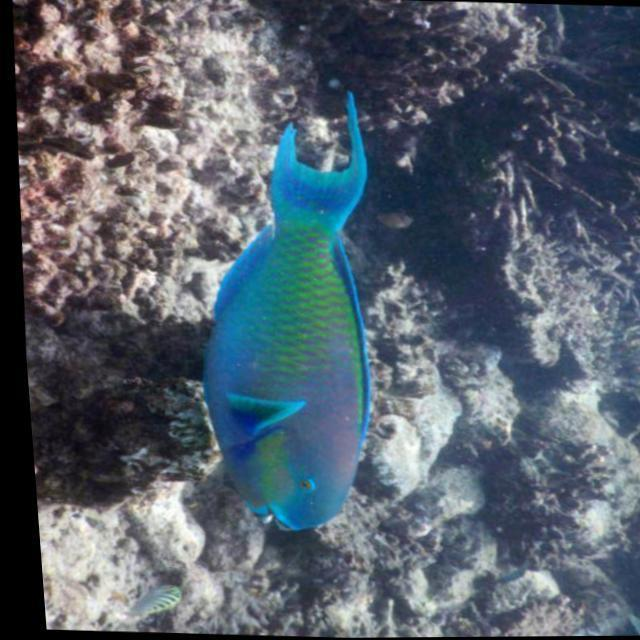Dead Coral: (338, 0, 640, 224)
